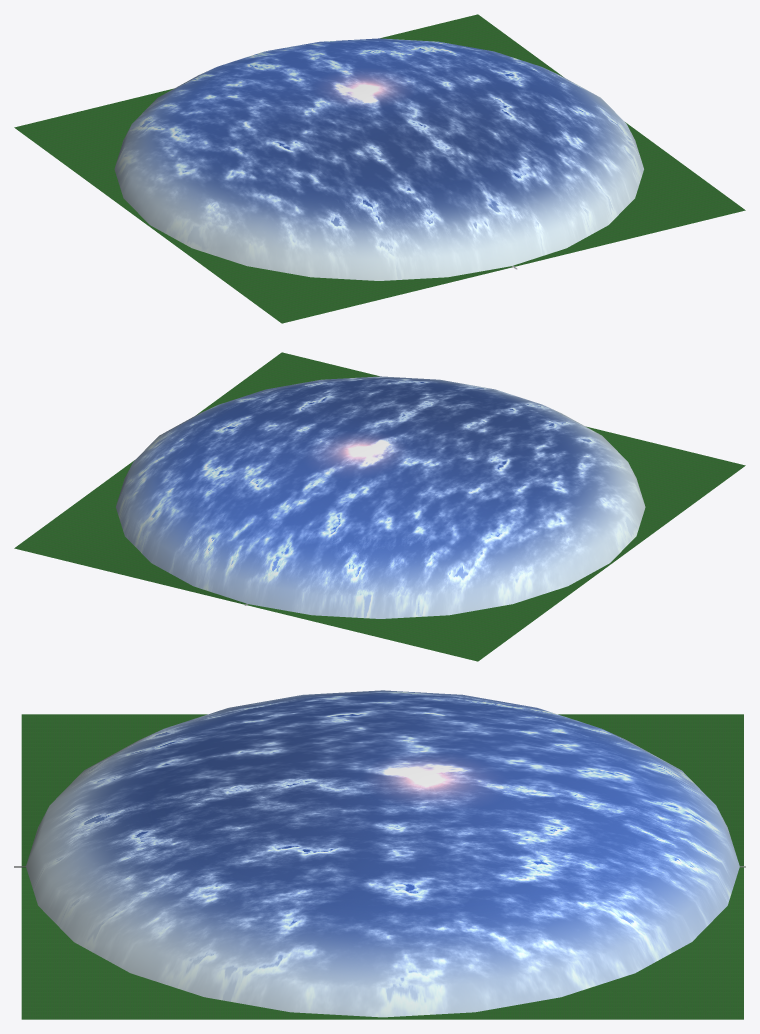
Rendered from sky_and_ground.obj.
3 views of the same model, one above another, from view 1: azimuth 30°, elevation 25°; view 2: azimuth 150°, elevation 25°; view 3: azimuth 270°, elevation 25° (orthographic). The views are drawn at different scales.
Visible parts, largest first — view 1: sky_and_ground.obj; view 2: sky_and_ground.obj; view 3: sky_and_ground.obj.
Boxes of the visible parts, box(x1,y1,x2,y2) form: sky_and_ground.obj: box(14, 14, 745, 323); sky_and_ground.obj: box(14, 352, 745, 661); sky_and_ground.obj: box(14, 690, 745, 1019).
Size of the model in its own units: 3420 by 481 by 3466.
Materials: 7 (4 with a texture image).
